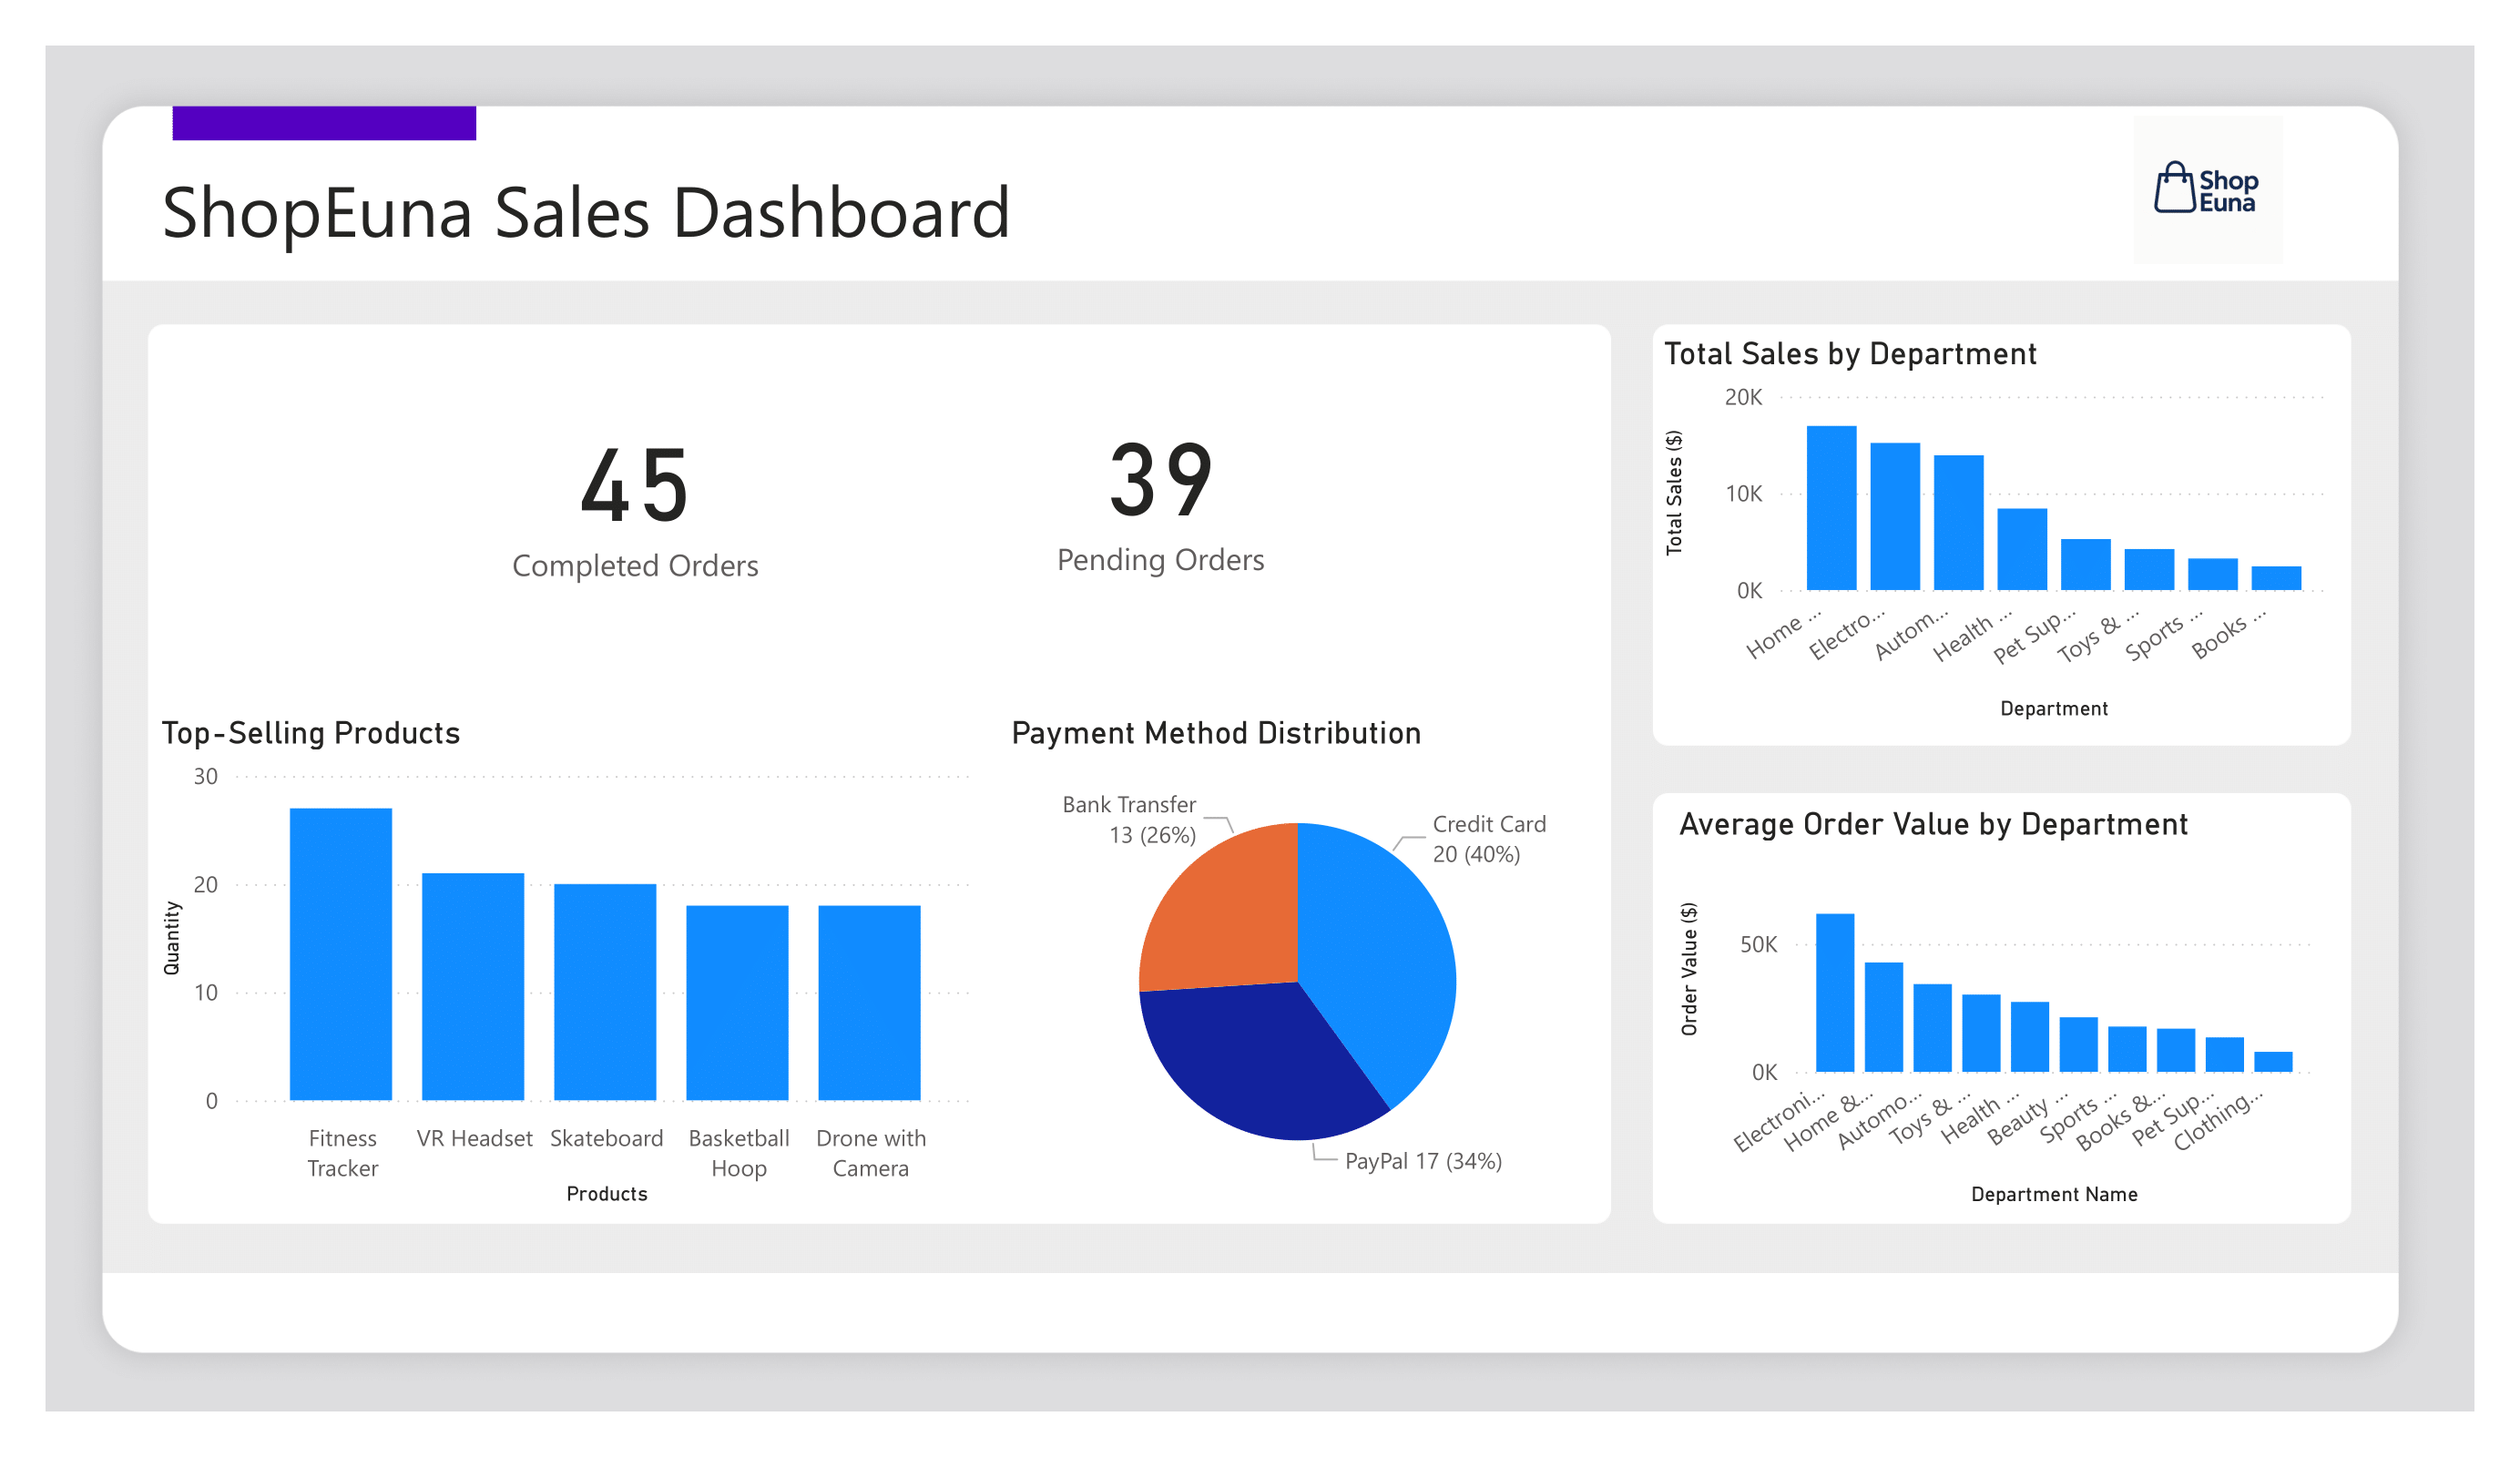

Layout of this report page (visuals, bound fields, positions):
{"tool":"powerbi","page":{"name":"Page 1","canvas":[1280,720],"ordinal":0},"visuals":[{"type":"columnChart","title":"Total Sales by Department","fields":{"Category":["Departments.Name"],"Y":["Sum(Payments.Amount)"]},"box":[848,152,360,208],"z":1000},{"type":"clusteredColumnChart","title":"Top-Selling Products","fields":{"Category":["Products.Name"],"Y":["Sum(OrderItems.Quantity)"]},"box":[56,351.8,440,264],"z":2000},{"type":"image","box":[1072,32,136,88],"z":3000},{"type":"textbox","box":[56,56,512,64],"z":4000},{"type":"columnChart","title":"Average Order Value by Department","fields":{"Category":["Departments.Name"],"Y":["Sum(Orders.TotalAmount)"]},"box":[856,400,344,216],"z":5000},{"type":"pieChart","title":"Payment Method Distribution","fields":{"Category":["Payments.PaymentMethod"],"Y":["CountNonNull(Payments.PaymentID)"]},"box":[504,352,312,264],"z":6000},{"type":"card","fields":{"Values":["CountNonNull(OrderItems.OrderID)"]},"box":[219.3,163.3,184,144],"z":6001},{"type":"card","fields":{"Values":["CountNonNull(OrderItems.OrderID)"]},"box":[495.8,160,184,144],"z":6002}]}

Visuals, with their boxes on the page's 1280x720 design canvas (x1, y1, x2, y2). These are canvas units, not pixel positions in the 2520x1457 screenshot, which may show the page scaled, cropped or inside an application window:
"Total Sales by Department" columnChart: 848:152:1208:360
"Top-Selling Products" clusteredColumnChart: 56:352:496:616
image: 1072:32:1208:120
textbox: 56:56:568:120
"Average Order Value by Department" columnChart: 856:400:1200:616
"Payment Method Distribution" pieChart: 504:352:816:616
card - CountNonNull(OrderItems.OrderID): 219:163:403:307
card - CountNonNull(OrderItems.OrderID): 496:160:680:304
